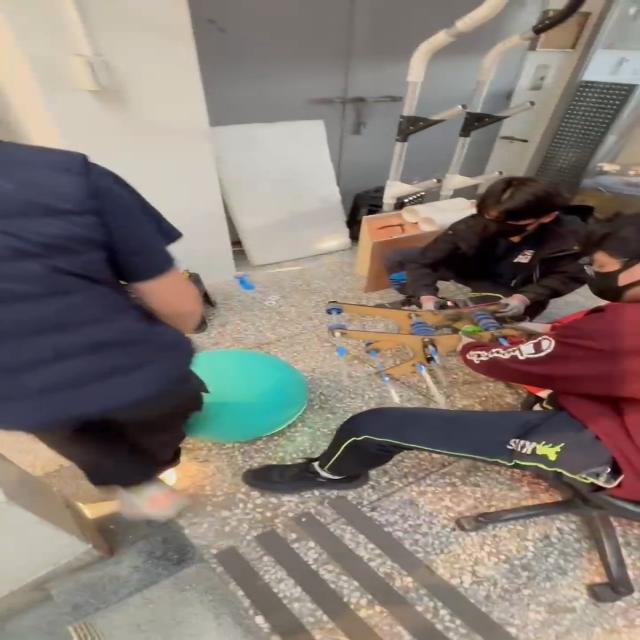ALGAE: (180, 347, 310, 444)
